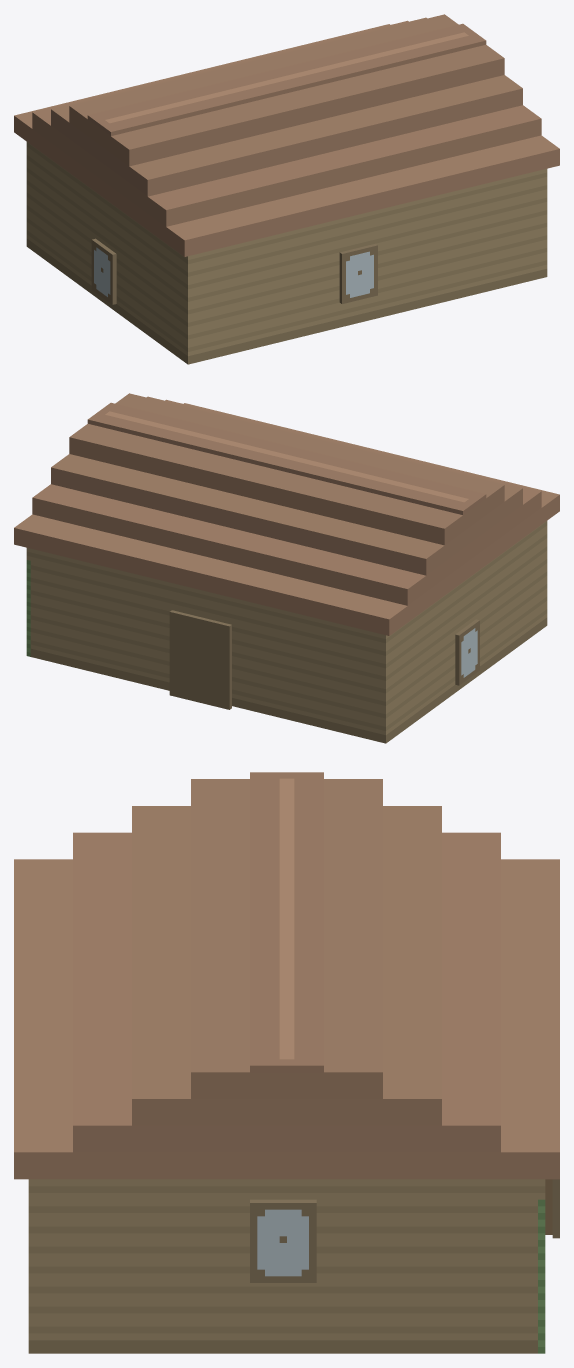
The model's file is carpinteria_02.glb.
The picture shows the model from 3 angles, top to bottom: view 1: azimuth 30°, elevation 25°; view 2: azimuth 150°, elevation 25°; view 3: azimuth 270°, elevation 25°; orthographic projection. The views are drawn at different scales.
Parts seen in each view (by area): view 1: carpinteria_02; view 2: carpinteria_02; view 3: carpinteria_02.
Boxes of the visible parts, <box> form: carpinteria_02: <box>14,14,559,364</box>; carpinteria_02: <box>14,393,559,743</box>; carpinteria_02: <box>14,772,559,1353</box>.
Size of the model in its own units: 9.4 by 4.4 by 7.4.
